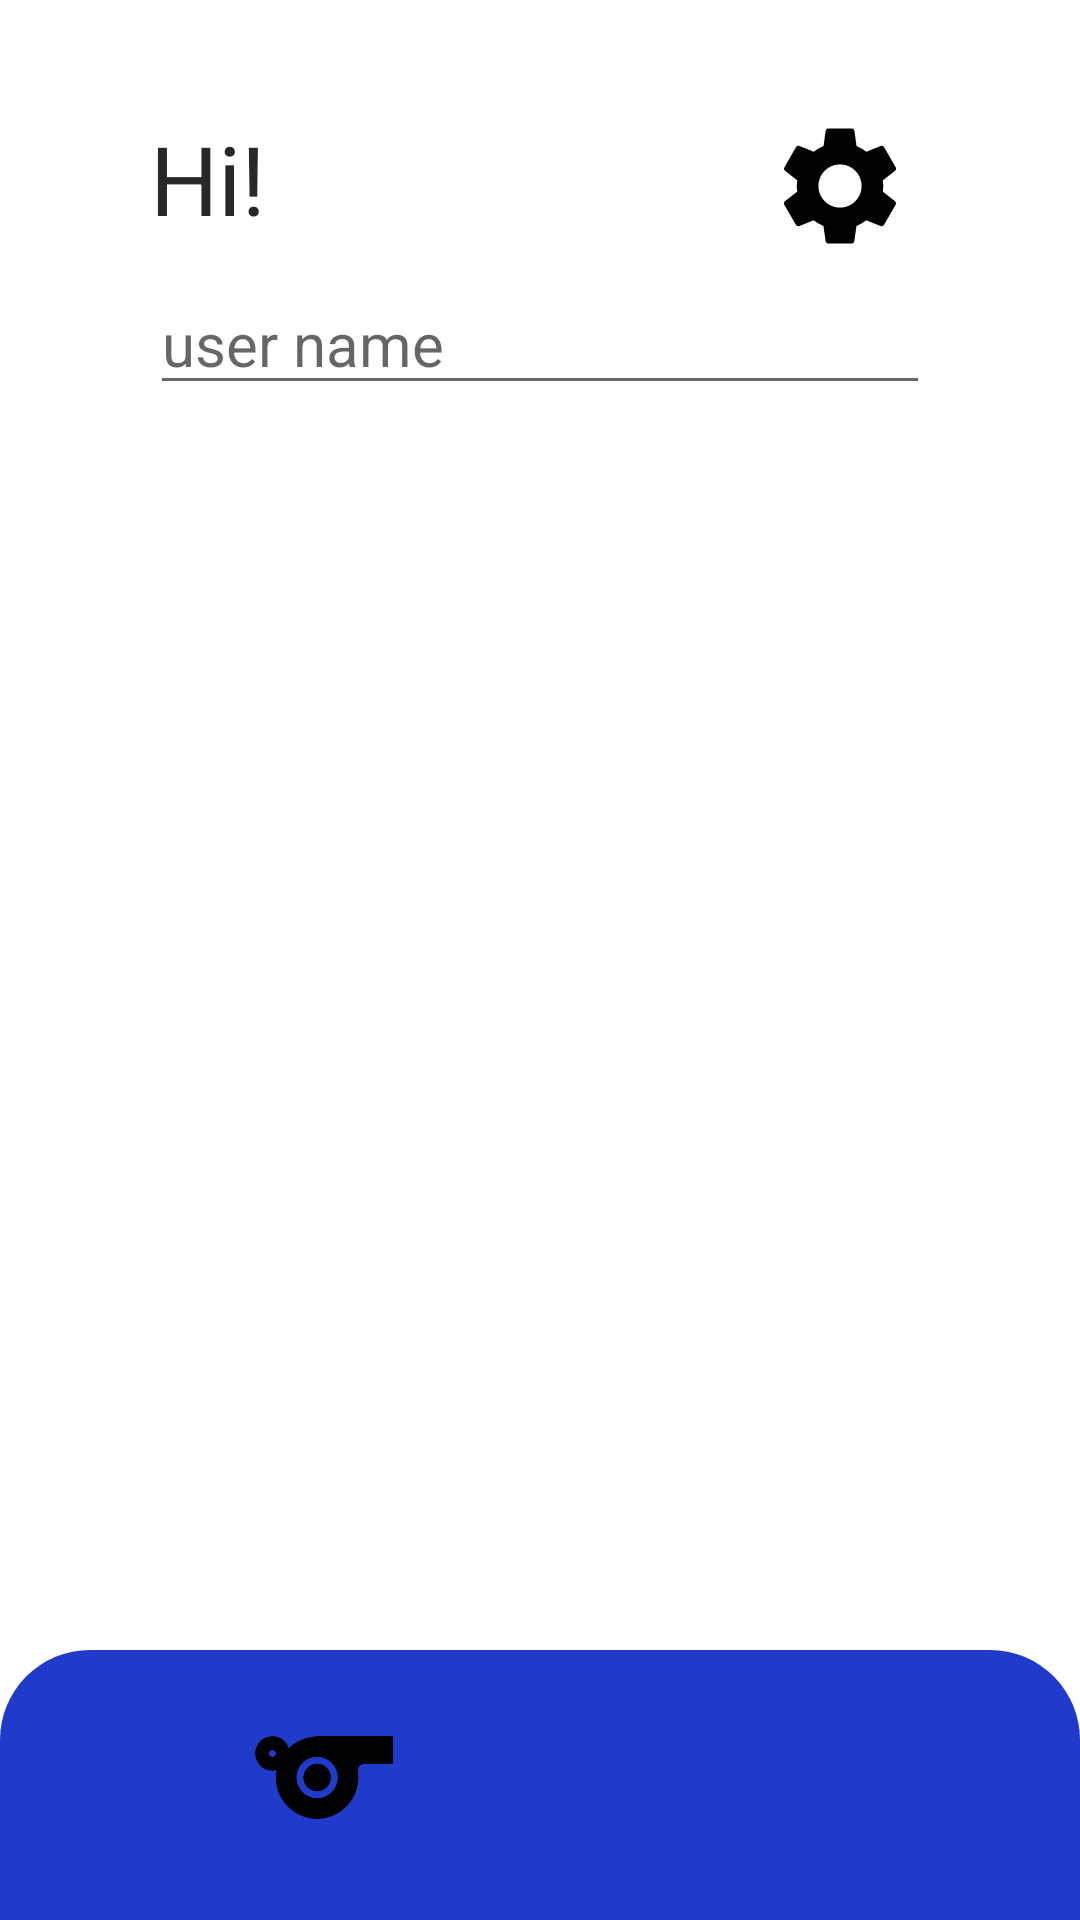

Icons on this 1080 x 1920 Android screen, each with the point to tap as (x,y):
sports: (324,1777)
